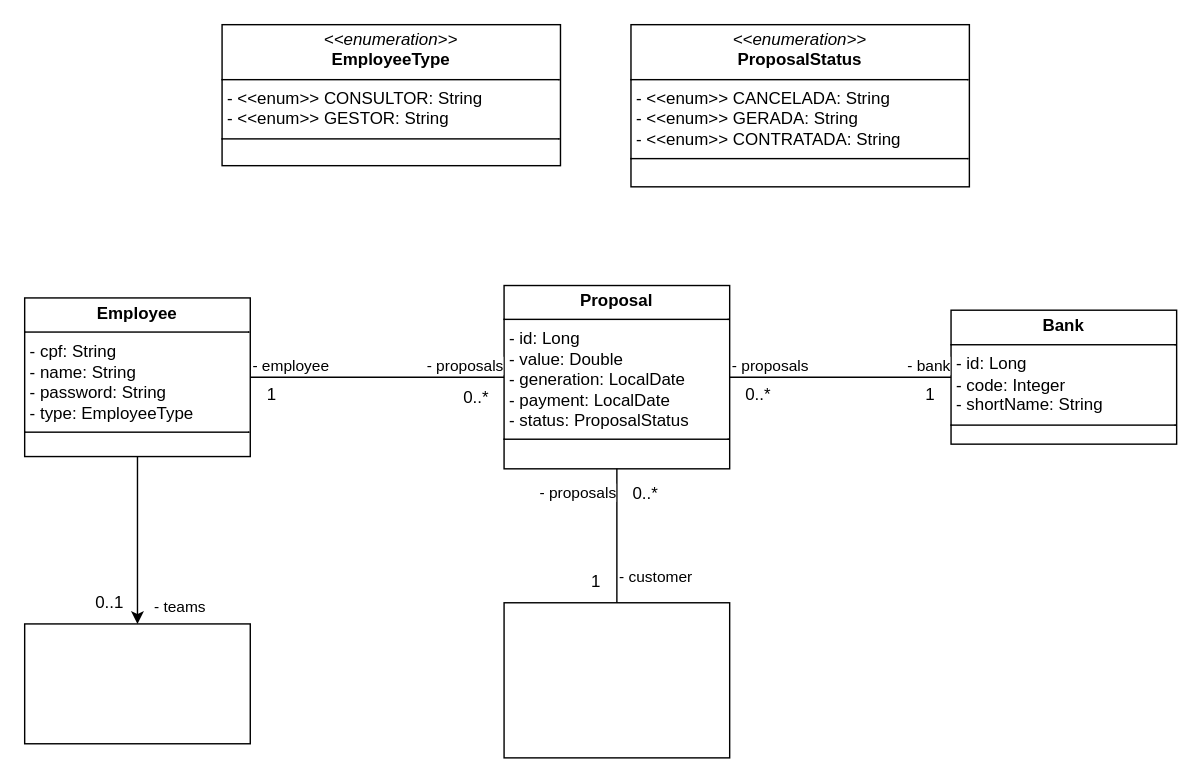
Image size: 1201x783. Some labels were removed from this diagram. The centre of each missing label's shape, as x and y in pixels:
Customer - cpf: String - name: String - phone: String - birthDate: Local Date: point 616,679
Team - id: Long - name: String: point 136,683
